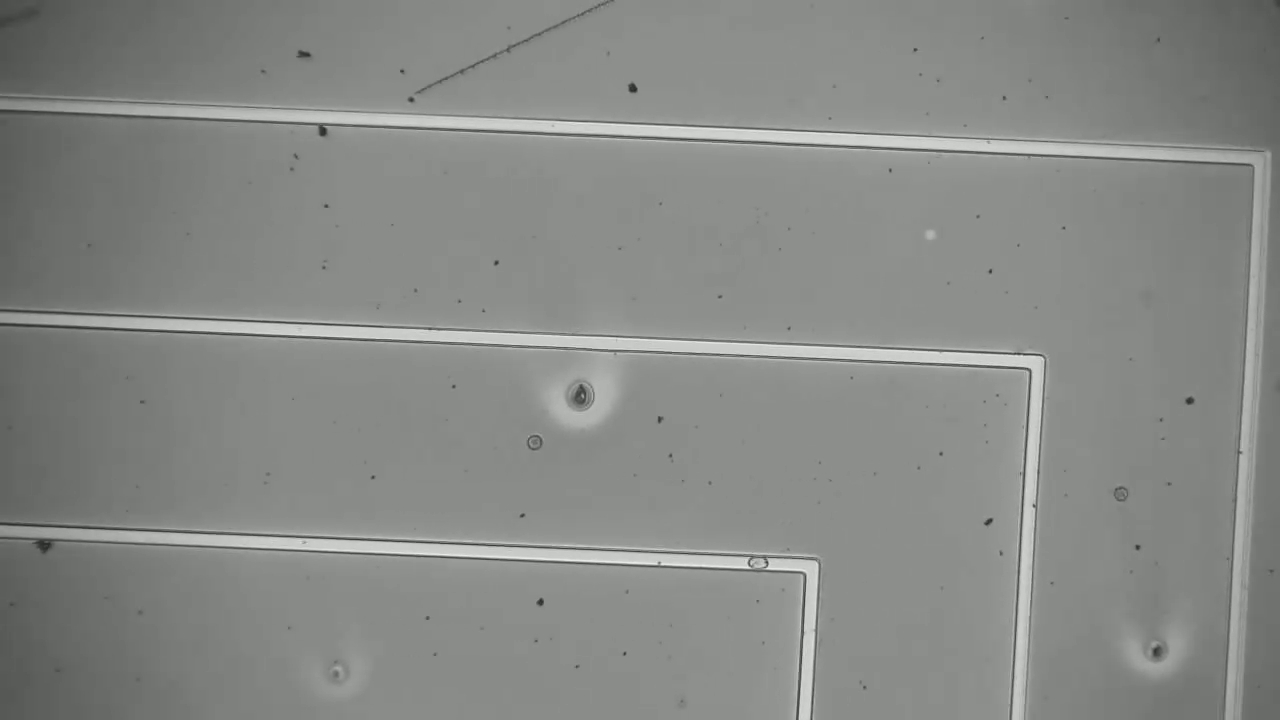scratch: (405, 1, 601, 101)
stains_enbedded: (734, 542, 781, 588)
